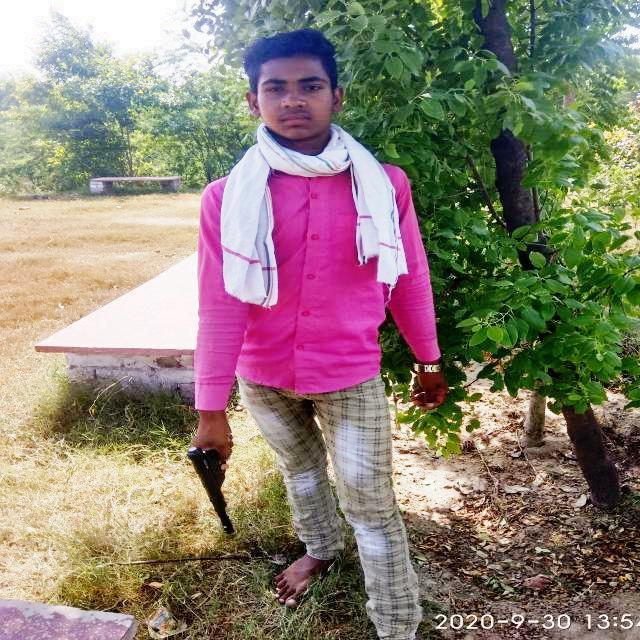Gun: (188, 436, 246, 534)
